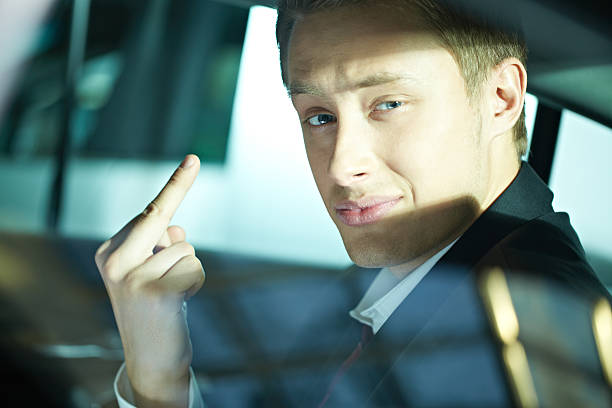insulting_gesture: (94, 154, 205, 346)
